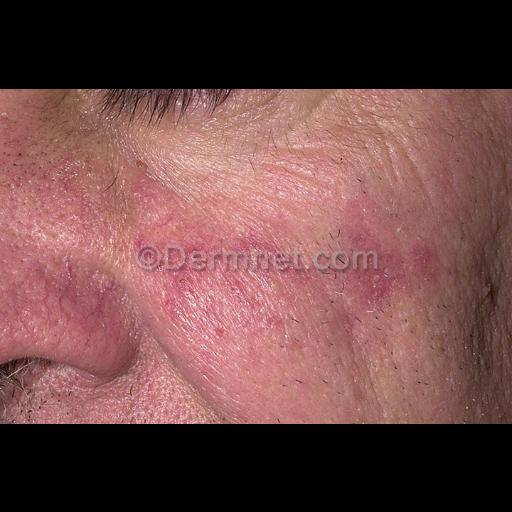Skin_Lesion: (142, 207, 228, 293), (20, 234, 82, 312), (238, 230, 296, 290), (330, 207, 398, 249), (80, 272, 118, 334), (358, 258, 398, 304), (204, 314, 242, 356), (414, 238, 438, 268), (268, 414, 294, 424)
